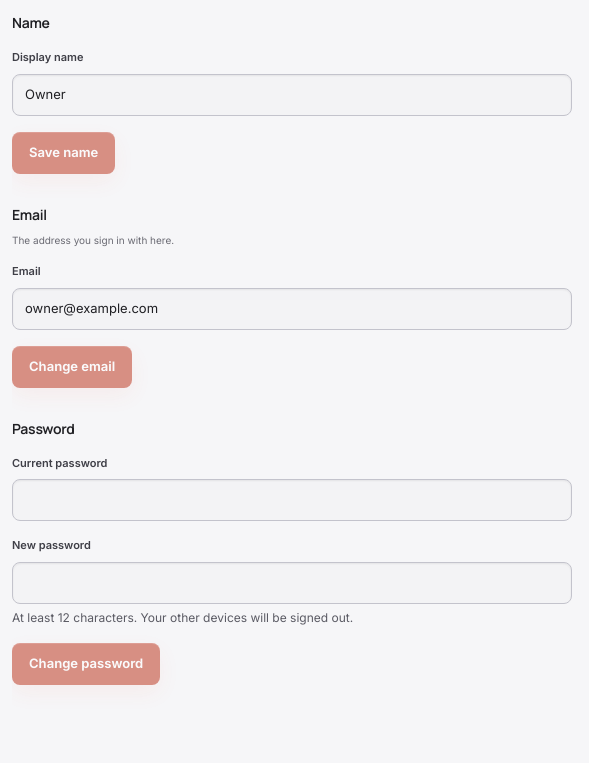
Test: Profile › shows the server's reason when the password is wrong
The width and height of the screenshot is (589, 763).
Type "wrong" into the password field labelled "Current password". click: (292, 500)
box: [12,479,572,521]
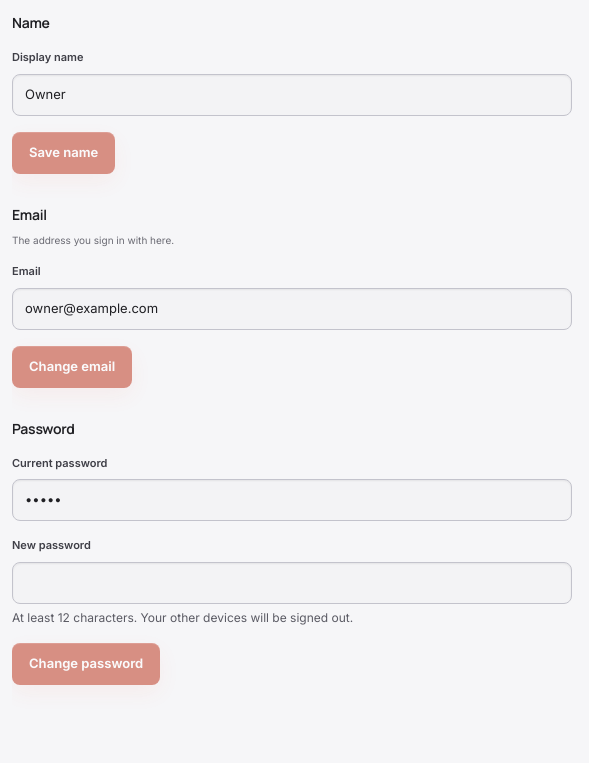
Type "a-long-new-password" into the 2nd password field. click: (292, 582)
box: [12,562,572,604]
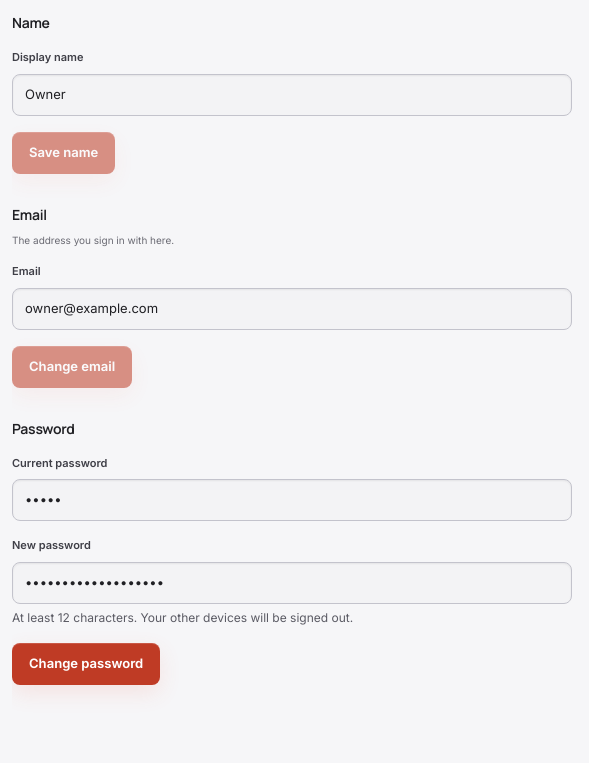
Click the button "Change password". click: (86, 664)
box: [12,642,160,684]
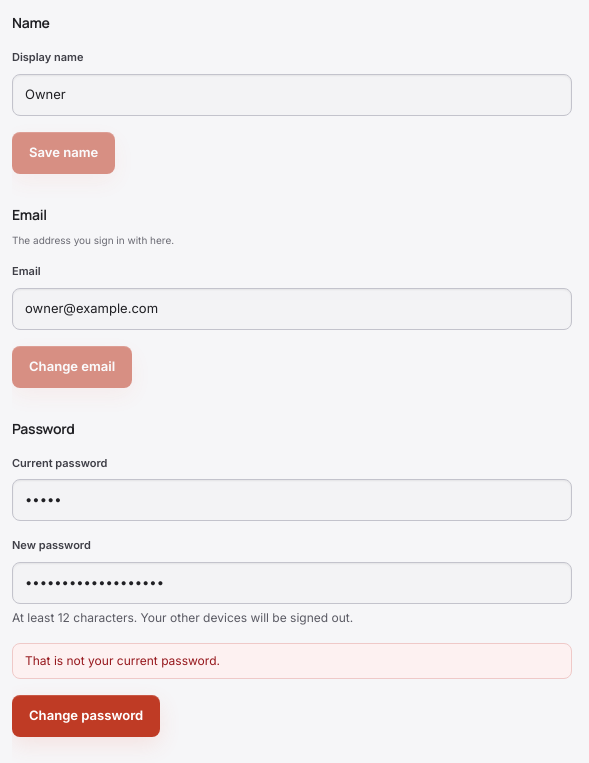
Now the message reads "That is not your current password.", box [25,652,220,668]
